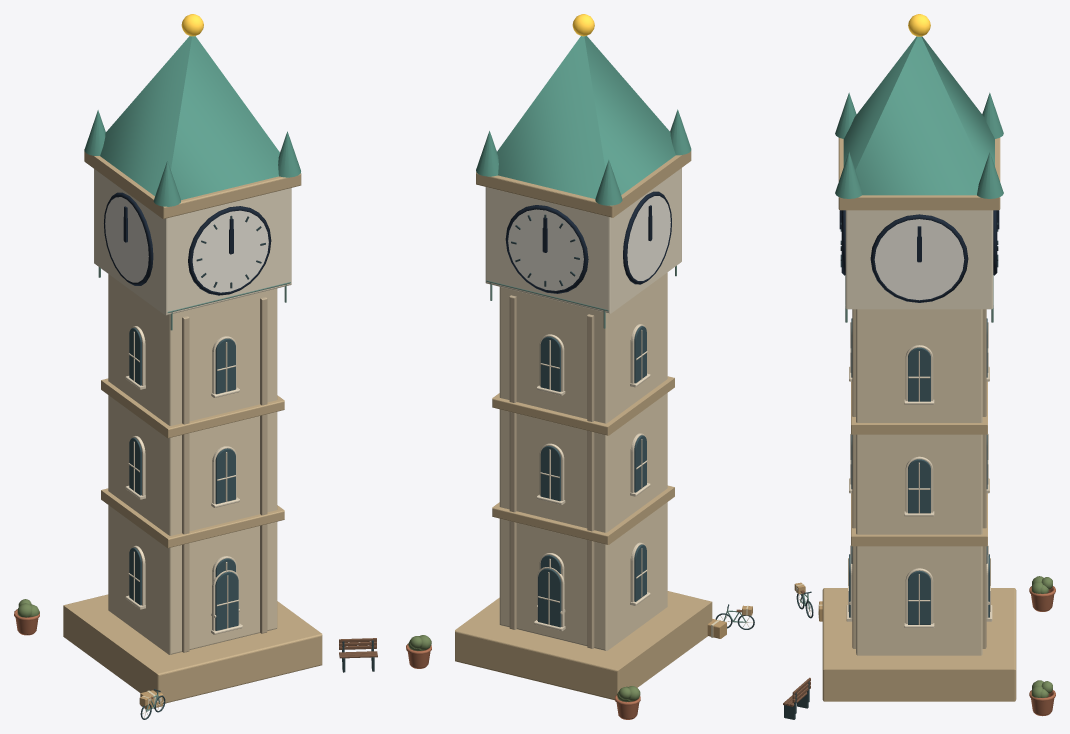
The model's file is clock.glb.
The picture shows the model from 3 angles, left to right: view 1: azimuth 30°, elevation 25°; view 2: azimuth 150°, elevation 25°; view 3: azimuth 270°, elevation 25°; orthographic projection. The views are drawn at different scales.
Parts seen in each view (by area): view 1: part_0, part_0_17, part_0_4, part_0_7, part_0_10; view 2: part_0, part_0_17, part_0_4, part_0_8, part_0_10; view 3: part_0, part_0_9, part_0_17, part_0_4.
Boxes of the visible parts, x1,y1,x2,y2 form: part_0: [63, 14, 322, 703]; part_0_17: [14, 215, 377, 719]; part_0_4: [125, 326, 239, 617]; part_0_7: [188, 206, 271, 295]; part_0_10: [104, 192, 153, 285]; part_0: [455, 14, 712, 700]; part_0_17: [406, 214, 754, 719]; part_0_4: [537, 324, 650, 614]; part_0_8: [505, 205, 588, 293]; part_0_10: [623, 191, 671, 284]; part_0: [822, 14, 1016, 701]; part_0_9: [870, 214, 968, 302]; part_0_17: [783, 222, 1055, 719]; part_0_4: [849, 318, 989, 627].
Bounding box in the file's own units: 15.91 × 40.51 × 15.51.
